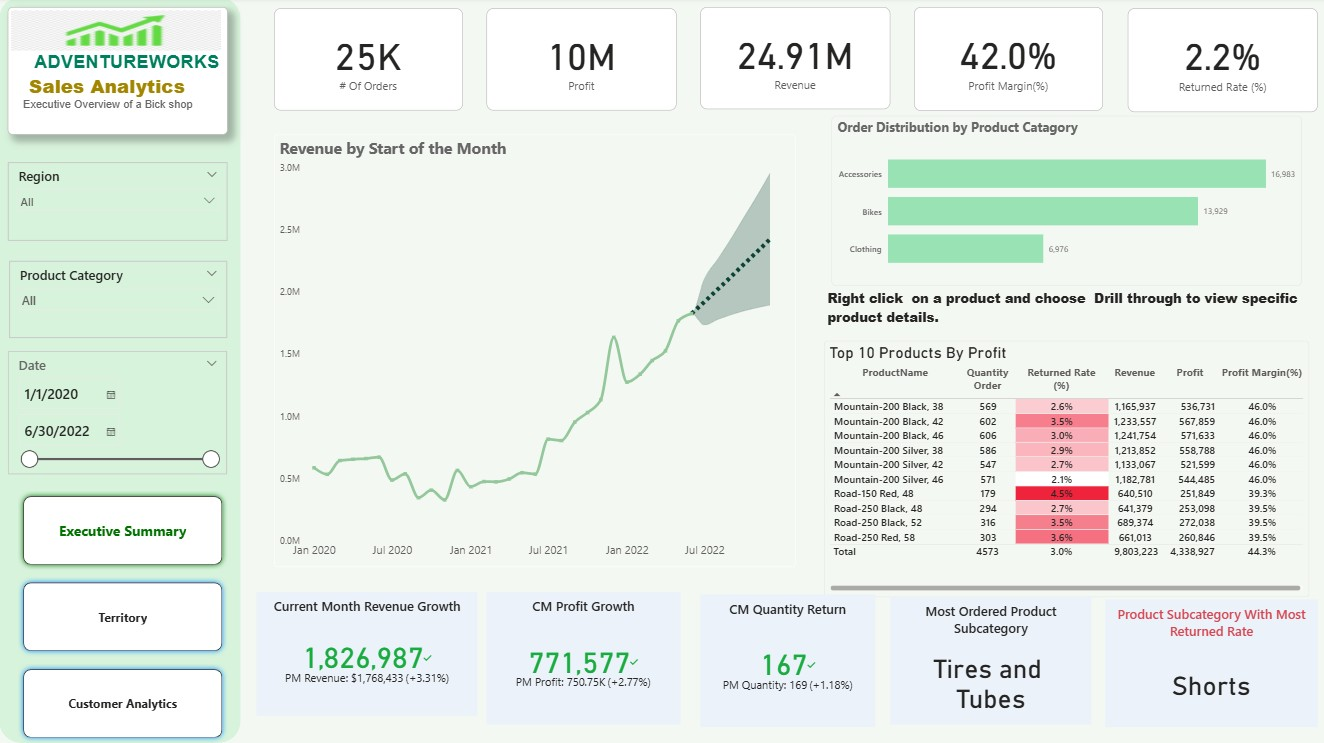

Layout of this report page (visuals, bound fields, positions):
{"tool":"powerbi","page":{"name":"Executive Summary","canvas":[1920,1080],"ordinal":0},"visuals":[{"type":"card","fields":{"Values":["_Measures.Revenue"]},"box":[1015.2,14.5,275.1,148.4],"z":0},{"type":"card","fields":{"Values":["_Measures.Profit"]},"box":[705.5,15.5,275.1,148.4],"z":1000},{"type":"card","fields":{"Values":["_Measures.Profit Margin(%)"]},"box":[1325.3,14.6,273.3,150.2],"z":2000},{"type":"shape","box":[0,0,350,1080],"z":3000},{"type":"textbox","box":[12.7,14.5,318.5,184.6],"z":4000,"group":"g1"},{"type":"card","fields":{"Values":["_Measures.# Of Orders"]},"box":[397.4,15.9,273.3,148.4],"z":5000},{"type":"card","fields":{"Values":["_Measures.Returned Rate (%)"]},"box":[1633.4,15.9,275.1,150.2],"z":6000},{"type":"lineChart","fields":{"Y":["_Measures.Revenue"],"Category":["DimDate.Start of the Month"]},"box":[398.3,198.3,755,626.7],"z":7000},{"type":"clusteredBarChart","title":"Order Distribution by Product Catagory ","fields":{"Category":["DimProductCategories.CategoryName","DimProductSubcategories.SubcategoryName"],"Y":["_Measures.# Of Orders"]},"box":[1205.2,171.9,680.4,246.1],"z":8000},{"type":"kpi","title":"Current Month  Revenue Growth","fields":{"Indicator":["_Measures.Revenue"],"TrendLine":["DimDate.Start of the Month"],"Goal":["_Measures.PM Revenue"]},"box":[372.8,861.4,320.3,179.2],"z":9000},{"type":"tableEx","title":"Top 10 Products By Profit","fields":{"Values":["DimProduct.ProductName","_Measures.Quantity Order","_Measures.Returned Rate (%)","_Measures.Revenue","_Measures.Profit","_Measures.Profit Margin(%)"]},"box":[1194.4,497.7,702.1,371],"z":10000},{"type":"kpi","title":"CM  Profit Growth","fields":{"TrendLine":["DimDate.Start of the Month"],"Goal":["_Measures.PM Profit"],"Indicator":["_Measures.Profit"]},"box":[705.8,861.4,280.5,191.8],"z":11000},{"type":"kpi","title":"CM Quantity Return","fields":{"TrendLine":["DimDate.Start of the Month"],"Goal":["_Measures.PM Quantity Return"],"Indicator":["_Measures.Quantity Returned"]},"box":[1015.2,865,253.4,191.8],"z":12000},{"type":"slicer","fields":{"Values":["DimTerritory.Region"]},"box":[12,238,318,114],"z":13000},{"type":"card","title":"Most Ordered Product Subcategory","fields":{"Values":["Min(DimProductSubcategories.SubcategoryName)"]},"box":[1290.3,868.6,291.4,184.6],"z":14000},{"type":"card","title":"Product Subcategory  With Most Returned Rate","fields":{"Values":["Min(DimProductSubcategories.SubcategoryName)"]},"box":[1601.5,872.3,307.6,184.6],"z":15000},{"type":"slicer","fields":{"Values":["DimProductCategories.CategoryName"]},"box":[14,382,316,112],"z":16000},{"type":"slicer","fields":{"Values":["DimDate.Date"]},"box":[13.3,512.6,317.7,178.9],"z":17000},{"type":"pageNavigator","box":[27.1,714.8,304,365.6],"z":18000},{"type":"textbox","box":[1194.4,418,691.3,76],"z":19000},{"type":"image","box":[12.7,14.5,314.2,68.2],"z":20000,"group":"g1"},{"type":"group","id":"g1","title":"Group 1","box":[12.7,14.5,318.5,184.6],"z":20001}]}

Visuals, with their boxes in screenshot pixels (x1, y1, x2, y2), scaled from the page's 1920x1080 canvas onto the 1324x743 screenshot:
card - _Measures.Revenue: <region>700, 10, 890, 112</region>
card - _Measures.Profit: <region>487, 11, 676, 113</region>
card - _Measures.Profit Margin(%): <region>914, 10, 1102, 113</region>
shape: <region>0, 0, 241, 742</region>
textbox: <region>9, 10, 228, 137</region>
card - _Measures.# Of Orders: <region>274, 11, 463, 113</region>
card - _Measures.Returned Rate (%): <region>1126, 11, 1316, 114</region>
lineChart - _Measures.Revenue x DimDate.Start of the Month: <region>275, 136, 795, 568</region>
"Order Distribution by Product Catagory " clusteredBarChart: <region>831, 118, 1300, 288</region>
"Current Month  Revenue Growth" kpi: <region>257, 593, 478, 716</region>
"Top 10 Products By Profit" tableEx: <region>824, 342, 1308, 598</region>
"CM  Profit Growth" kpi: <region>487, 593, 680, 725</region>
"CM Quantity Return" kpi: <region>700, 595, 875, 727</region>
slicer - DimTerritory.Region: <region>8, 164, 228, 242</region>
"Most Ordered Product Subcategory" card: <region>890, 598, 1091, 725</region>
"Product Subcategory  With Most Returned Rate" card: <region>1104, 600, 1316, 727</region>
slicer - DimProductCategories.CategoryName: <region>10, 263, 228, 340</region>
slicer - DimDate.Date: <region>9, 353, 228, 476</region>
pageNavigator: <region>19, 492, 228, 742</region>
textbox: <region>824, 288, 1300, 340</region>
image: <region>9, 10, 225, 57</region>
"Group 1" group: <region>9, 10, 228, 137</region>
